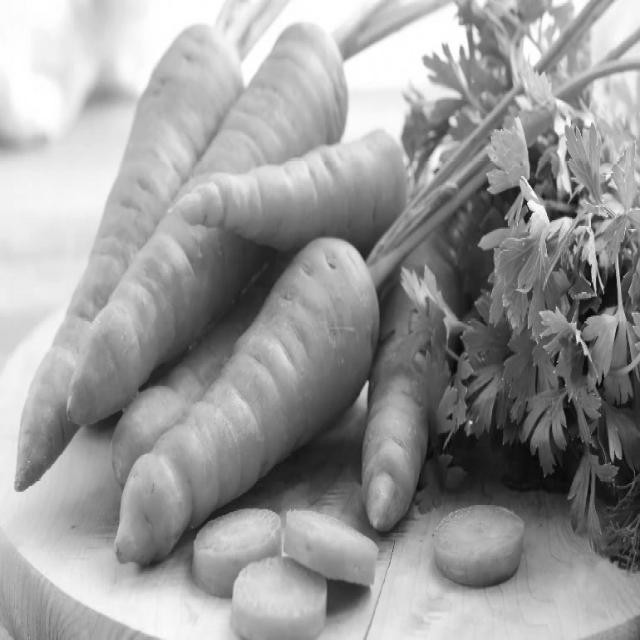Fresh_Carrot: (16, 15, 400, 619), (89, 15, 360, 418), (26, 34, 252, 484), (104, 252, 374, 572), (195, 142, 409, 235)
